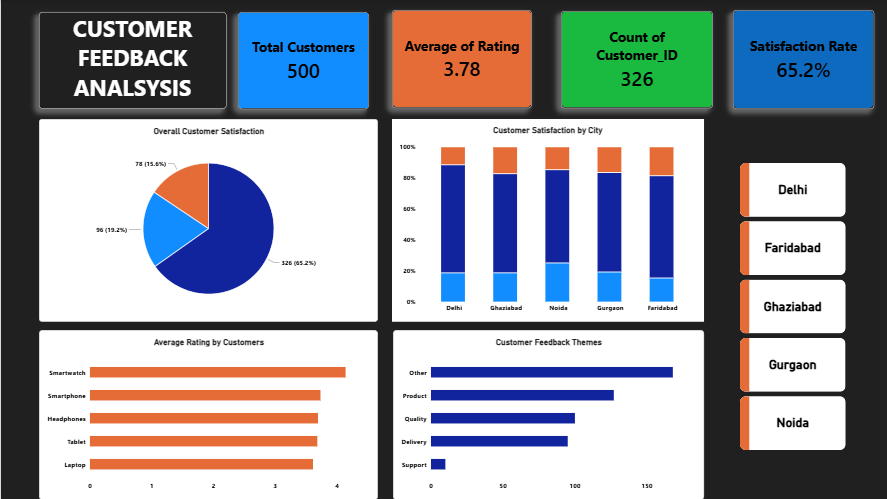

The dashboard page shown, as its layout file describes it:
{"tool":"powerbi","page":{"name":"CUSTOMER FEEDBACK ANALYSIS","canvas":[1920,1080],"ordinal":0},"visuals":[{"type":"cardVisual","fields":{"Data":["Cleaned_Data.Total Customers"]},"box":[511.9,25.9,283,209.5],"z":0},{"type":"cardVisual","fields":{"Data":["Avg(Cleaned_Data.Rating)"]},"box":[844.6,21.6,302.4,211.7],"z":1000},{"type":"cardVisual","fields":{"Data":["CountNonNull(Cleaned_Data.Customer_ID)"]},"box":[1209.6,23.8,328.3,209.5],"z":2000},{"type":"cardVisual","fields":{"Data":["Cleaned_Data.Satisfaction Rate"]},"box":[1581.1,21.6,304.6,213.8],"z":3000},{"type":"advancedSlicerVisual","fields":{"Values":["Cleaned_Data.City"]},"box":[1596.2,352.1,229,624.2],"z":5000},{"type":"pieChart","title":"Overall Customer Satisfaction","fields":{"Category":["Cleaned_Data.Satisfaction"],"Y":["CountNonNull(Cleaned_Data.Customer_ID)"]},"box":[82.1,257,732.2,438.5],"z":6000},{"type":"clusteredBarChart","title":"Average Rating by Customers","fields":{"Category":["Cleaned_Data.Product"],"Y":["Avg(Cleaned_Data.Rating)"]},"box":[82.1,712.8,732.2,367.2],"z":7000},{"type":"hundredPercentStackedColumnChart","title":"Customer Satisfaction by City","fields":{"Category":["Cleaned_Data.City"],"Series":["Cleaned_Data.Satisfaction"],"Y":["CountNonNull(Cleaned_Data.Customer_ID)"]},"box":[844.6,257,673.9,438.5],"z":8000},{"type":"clusteredBarChart","title":"Customer Feedback Themes","fields":{"Category":["Cleaned_Data.Feedback_Theme"],"Y":["CountNonNull(Cleaned_Data.Customer_ID)"]},"box":[846.7,712.8,671.8,367.2],"z":9000},{"type":"textbox","box":[81.8,26.4,404.5,209.1],"z":9001}]}

Visuals, with their boxes in screenshot pixels (x1, y1, x2, y2), scaled from the page's 1920x1080 canvas onto the 887x499 screenshot:
cardVisual - Cleaned_Data.Total Customers: bbox=[236, 12, 367, 109]
cardVisual - Avg(Cleaned_Data.Rating): bbox=[390, 10, 530, 108]
cardVisual - CountNonNull(Cleaned_Data.Customer_ID): bbox=[559, 11, 710, 108]
cardVisual - Cleaned_Data.Satisfaction Rate: bbox=[730, 10, 871, 109]
advancedSlicerVisual - Cleaned_Data.City: bbox=[737, 163, 843, 451]
"Overall Customer Satisfaction" pieChart: bbox=[38, 119, 376, 321]
"Average Rating by Customers" clusteredBarChart: bbox=[38, 329, 376, 498]
"Customer Satisfaction by City" hundredPercentStackedColumnChart: bbox=[390, 119, 702, 321]
"Customer Feedback Themes" clusteredBarChart: bbox=[391, 329, 702, 498]
textbox: bbox=[38, 12, 225, 109]
